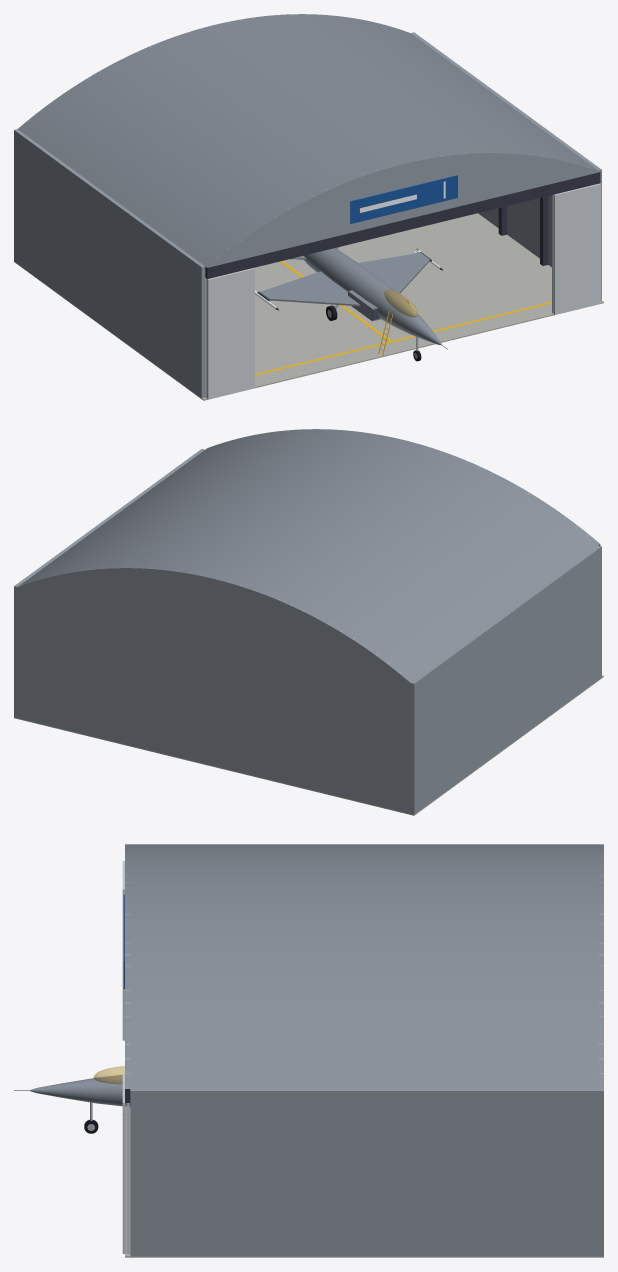
The model's file is air-003.glb.
3 views of the same model, one above another, from view 1: azimuth 30°, elevation 25°; view 2: azimuth 150°, elevation 25°; view 3: azimuth 270°, elevation 25° (orthographic). The views are drawn at different scales.
Visible parts, largest first — view 1: roof, floor_slab, side_wall_left, gable_front, door_panel_right_2, door_panel_left_2, door_header, fuselage, side_wall_right, hangar_sign, wing_left, wing_right (+3 smaller); view 2: roof, back_wall, side_wall_left, gable_back, floor_slab, side_wall_right; view 3: roof, side_wall_right, fuselage, floor_slab, back_wall, door_panel_right_2, door_panel_right_1.
Part boxes in pixels (x1,y1,x2,y2): roof: (18,14,599,267); floor_slab: (14,213,603,400); side_wall_left: (16,130,205,397); gable_front: (208,151,599,267); door_panel_right_2: (553,183,601,314); door_panel_left_2: (207,268,254,399); door_header: (205,172,600,278); fuselage: (303,248,441,345); side_wall_right: (413,34,601,300); hangar_sign: (350,175,457,223); wing_left: (260,271,360,306); wing_right: (358,252,429,293); roof: (18,429,599,682); back_wall: (14,584,416,814); side_wall_left: (413,545,601,812); gable_back: (18,566,409,682); floor_slab: (14,675,603,815); side_wall_right: (16,449,204,585); roof: (125,844,603,1088); side_wall_right: (130,1089,598,1256); fuselage: (29,1075,130,1106); floor_slab: (125,1106,603,1257); back_wall: (598,1089,603,1256); door_panel_right_2: (122,1074,125,1253); door_panel_right_1: (126,1103,129,1253).
Bounding box in the file's own units: 22.4 × 10.06 × 22.67.
